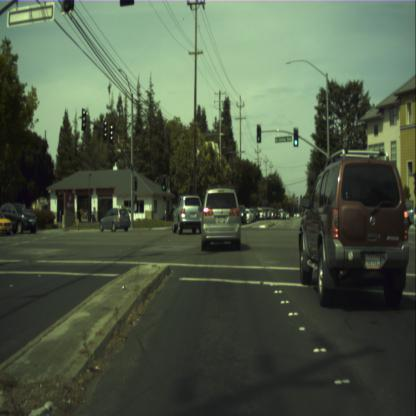Green: (293, 128, 298, 146)
GreenLeft: (256, 125, 260, 142), (162, 178, 165, 190)
